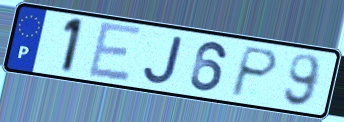1: (59, 17, 87, 77)
6: (189, 39, 229, 94)
9: (282, 53, 323, 109)
E: (86, 19, 145, 84)
J: (141, 35, 187, 87)
P: (228, 44, 281, 100)
